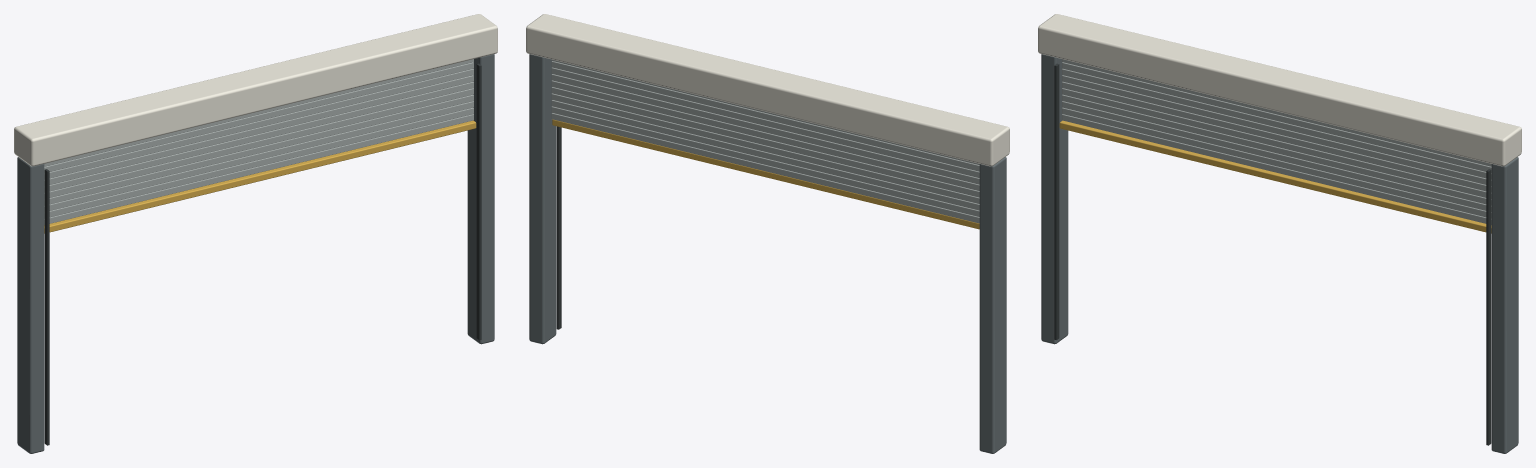
The model's file is automated-parking-and-vehicle-retrieval-automated-park-17defc70__30342.glb.
3 renders of one model, left to right at view 1: azimuth 30°, elevation 25°; view 2: azimuth 150°, elevation 25°; view 3: azimuth 330°, elevation 25°, orthographic.
Visible parts, largest first — view 1: automated-parking-and-vehicle-retrieval-vehicle-entry-shutte (×5); view 2: automated-parking-and-vehicle-retrieval-vehicle-entry-shutte (×5); view 3: automated-parking-and-vehicle-retrieval-vehicle-entry-shutte (×5).
Boxes of the visible parts, x1,y1,x2,y2 form: automated-parking-and-vehicle-retrieval-vehicle-entry-shutte (×5): [14, 14, 497, 453]; automated-parking-and-vehicle-retrieval-vehicle-entry-shutte (×5): [526, 14, 1009, 453]; automated-parking-and-vehicle-retrieval-vehicle-entry-shutte (×5): [1038, 14, 1521, 453].
Bounding box in the file's own units: 4.9 × 3.18 × 0.3398.
